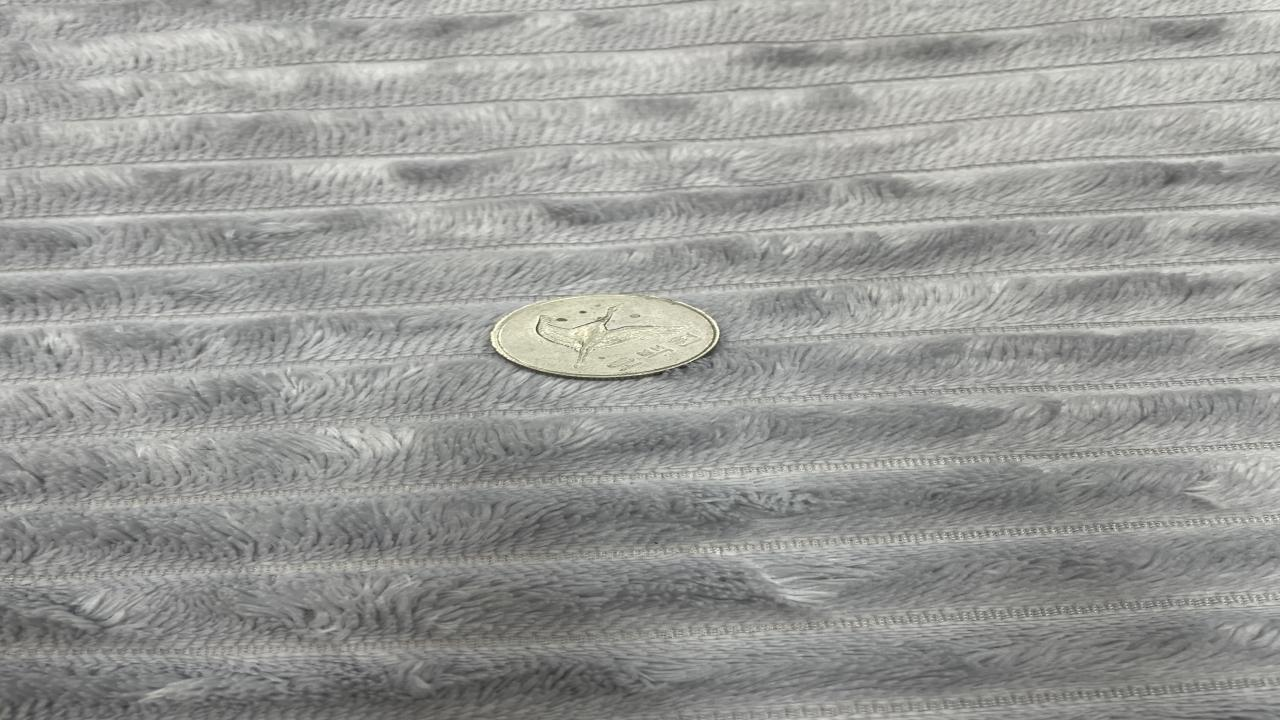coin: (491, 294, 722, 377)
